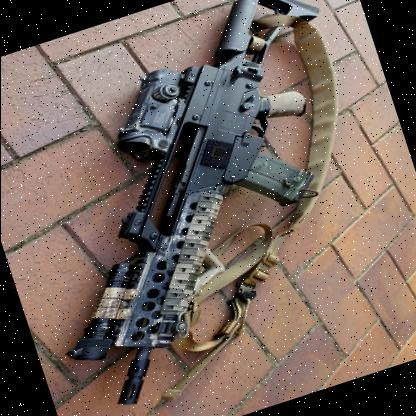rifle: (0, 0, 413, 401)
